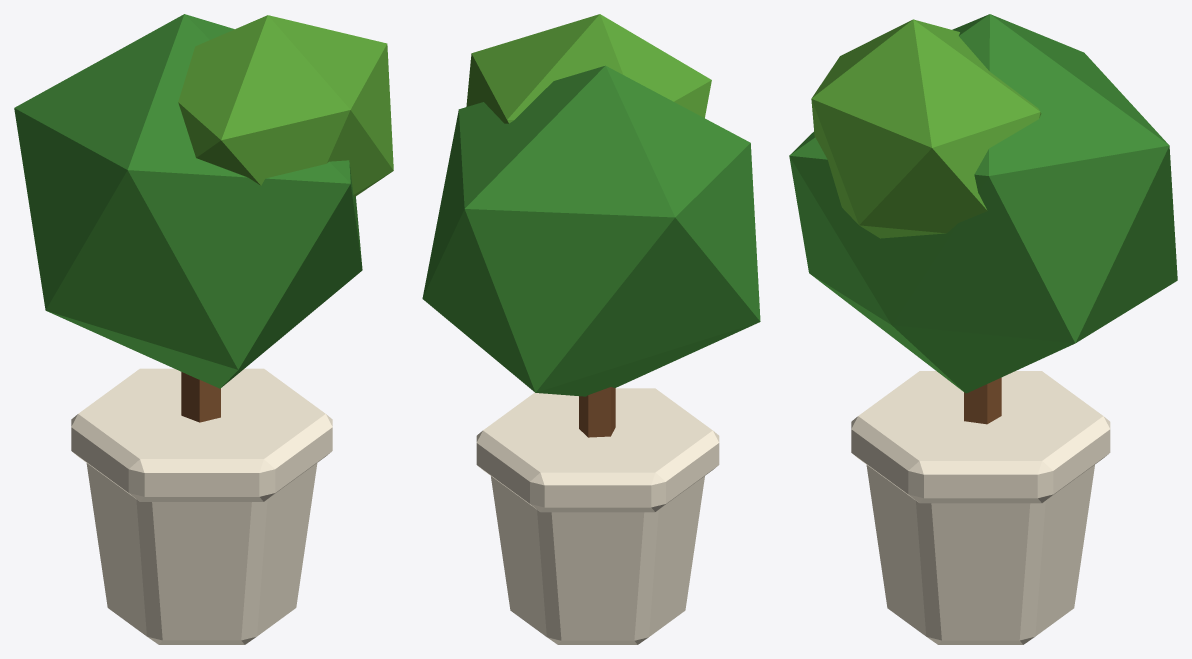
Rendered from plant_topiary.glb.
The picture shows the model from 3 angles, left to right: view 1: azimuth 30°, elevation 25°; view 2: azimuth 150°, elevation 25°; view 3: azimuth 270°, elevation 25°; orthographic projection. The views are drawn at different scales.
Parts seen in each view (by area): view 1: plant_topiary; view 2: plant_topiary; view 3: plant_topiary.
Part boxes in pixels (box(x1,y1,x2,y2)): plant_topiary: box(14, 14, 393, 644); plant_topiary: box(422, 14, 760, 644); plant_topiary: box(789, 14, 1177, 644).
Size of the model in its own units: 0.3595 by 0.6475 by 0.374.
